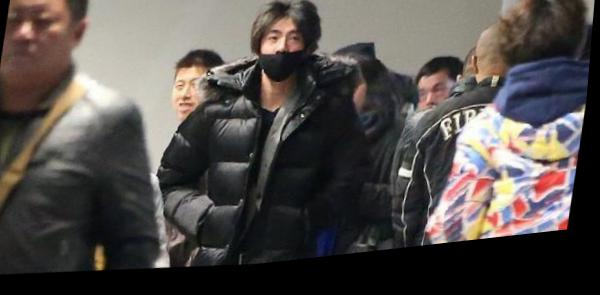NONE: (1, 1, 80, 90), (173, 75, 218, 125), (417, 87, 459, 130)
WRONG: (257, 27, 321, 92)
